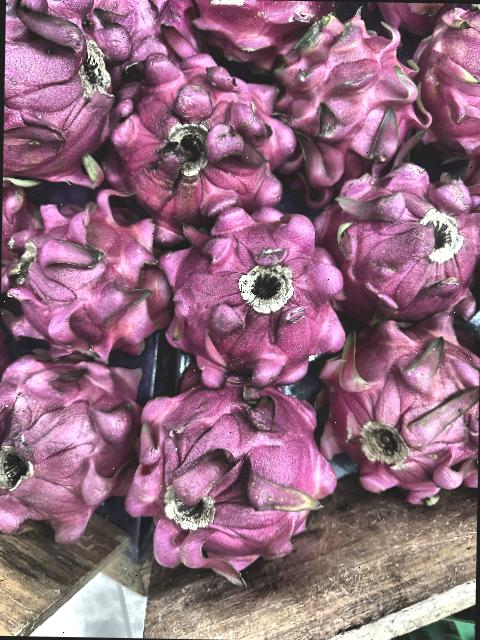buah-naga-matang: (128, 376, 338, 598), (149, 205, 348, 399), (2, 191, 175, 368), (114, 54, 300, 212), (0, 333, 143, 537), (320, 310, 480, 490), (264, 10, 428, 176), (324, 162, 480, 322), (3, 0, 121, 170)
